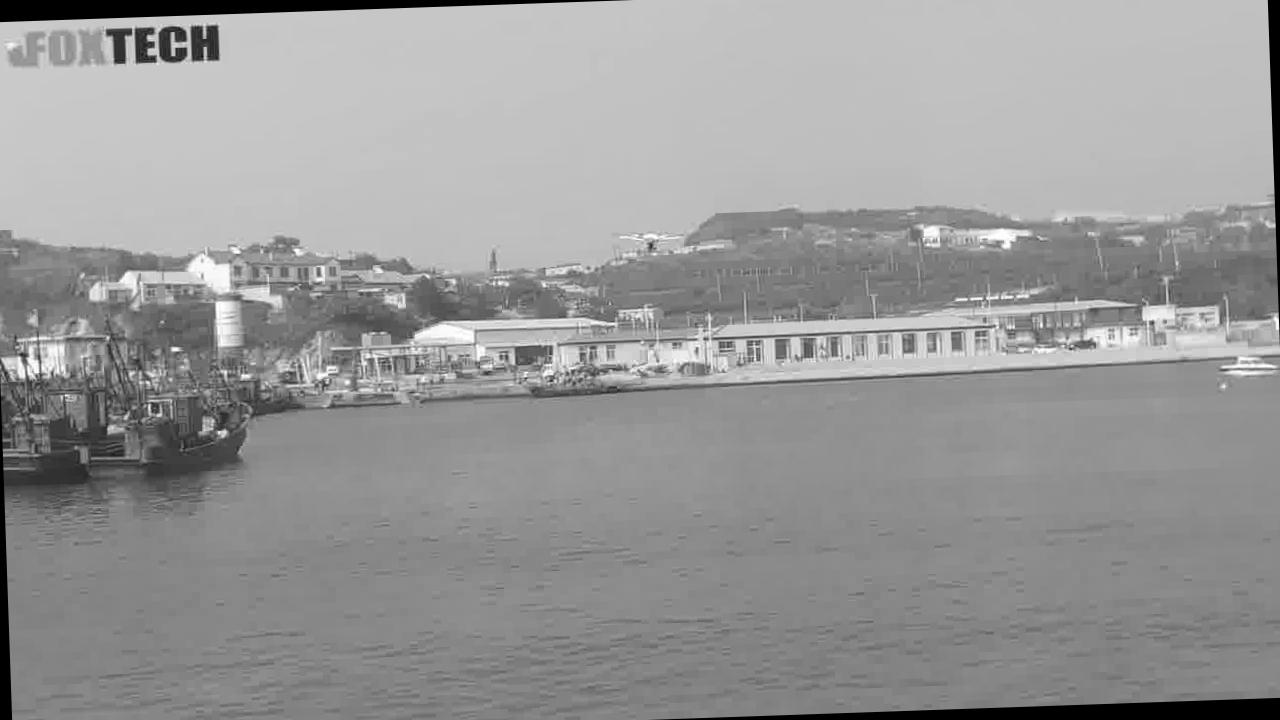drone: (608, 211, 698, 268)
